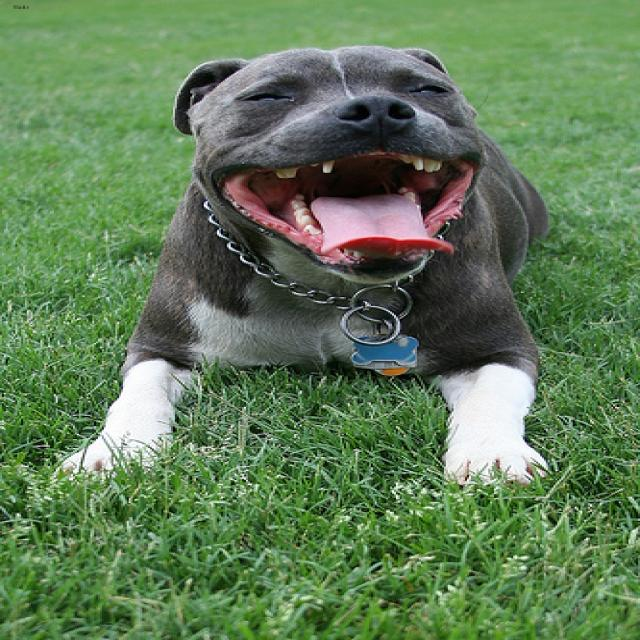dog-staffordshire_bull_terrier: (42, 35, 563, 493)
